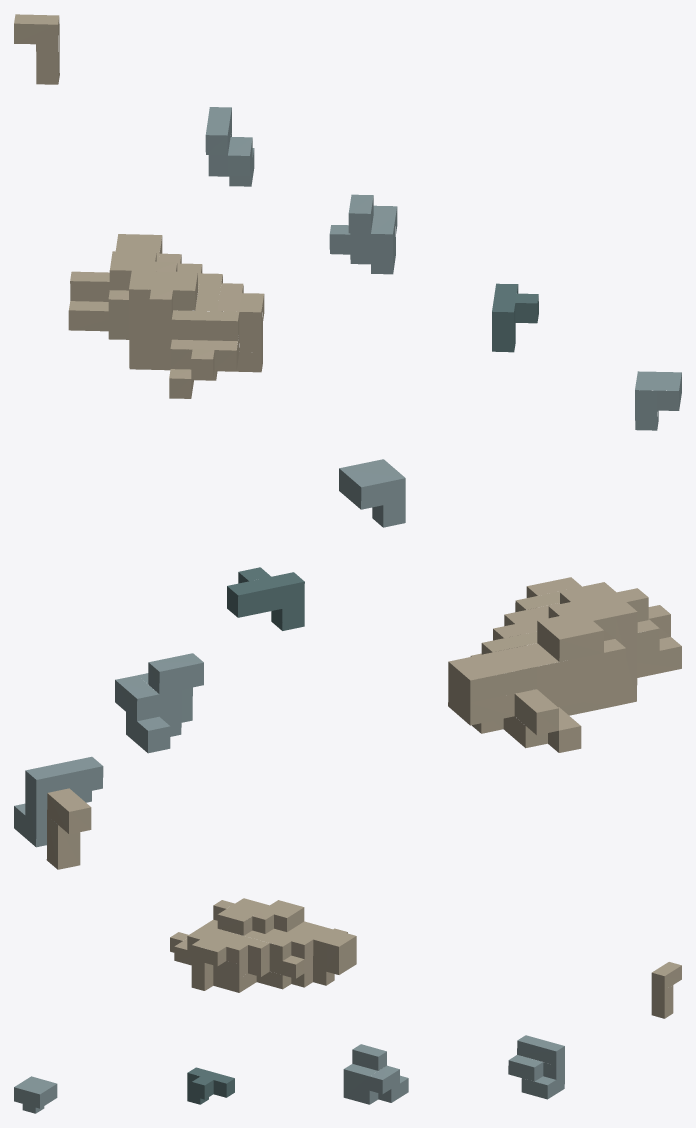
3 renders of one model, top to bottom at view 1: azimuth 30°, elevation 25°; view 2: azimuth 150°, elevation 25°; view 3: azimuth 270°, elevation 25°, orthographic. The views are drawn at different scales.
Parts seen in each view (by area): view 1: measured-industrial; view 2: measured-industrial; view 3: measured-industrial.
Boxes of the visible parts, <box> form: measured-industrial: <box>14,14,681,430</box>; measured-industrial: <box>14,459,681,869</box>; measured-industrial: <box>14,898,681,1113</box>.
Size of the model in its own units: 32.5 by 8.96 by 64.06.
